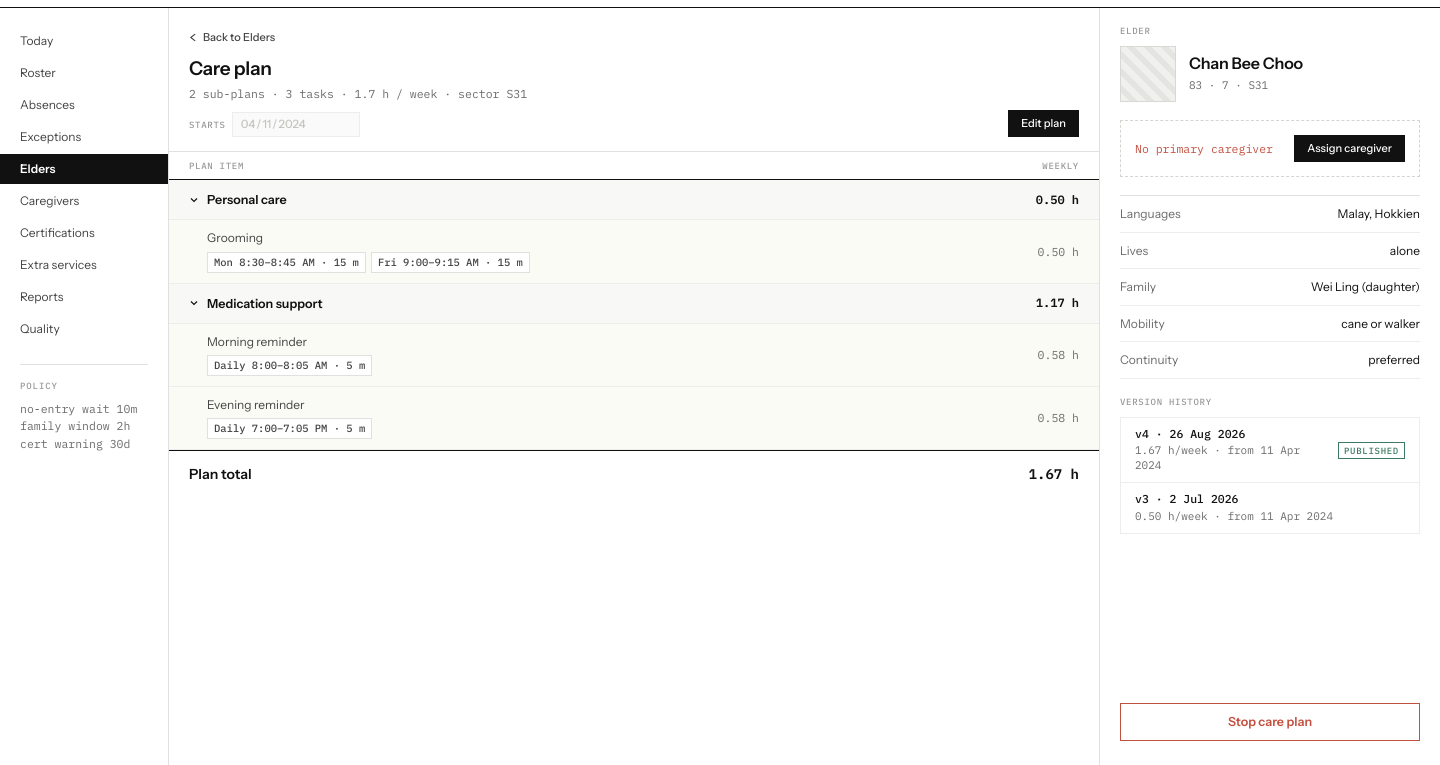
Test case: adds a sub-plan from the grouped activity picker and a per-day schedule
Click the button "Edit plan": x=1044, y=124 [1008,110,1079,137]
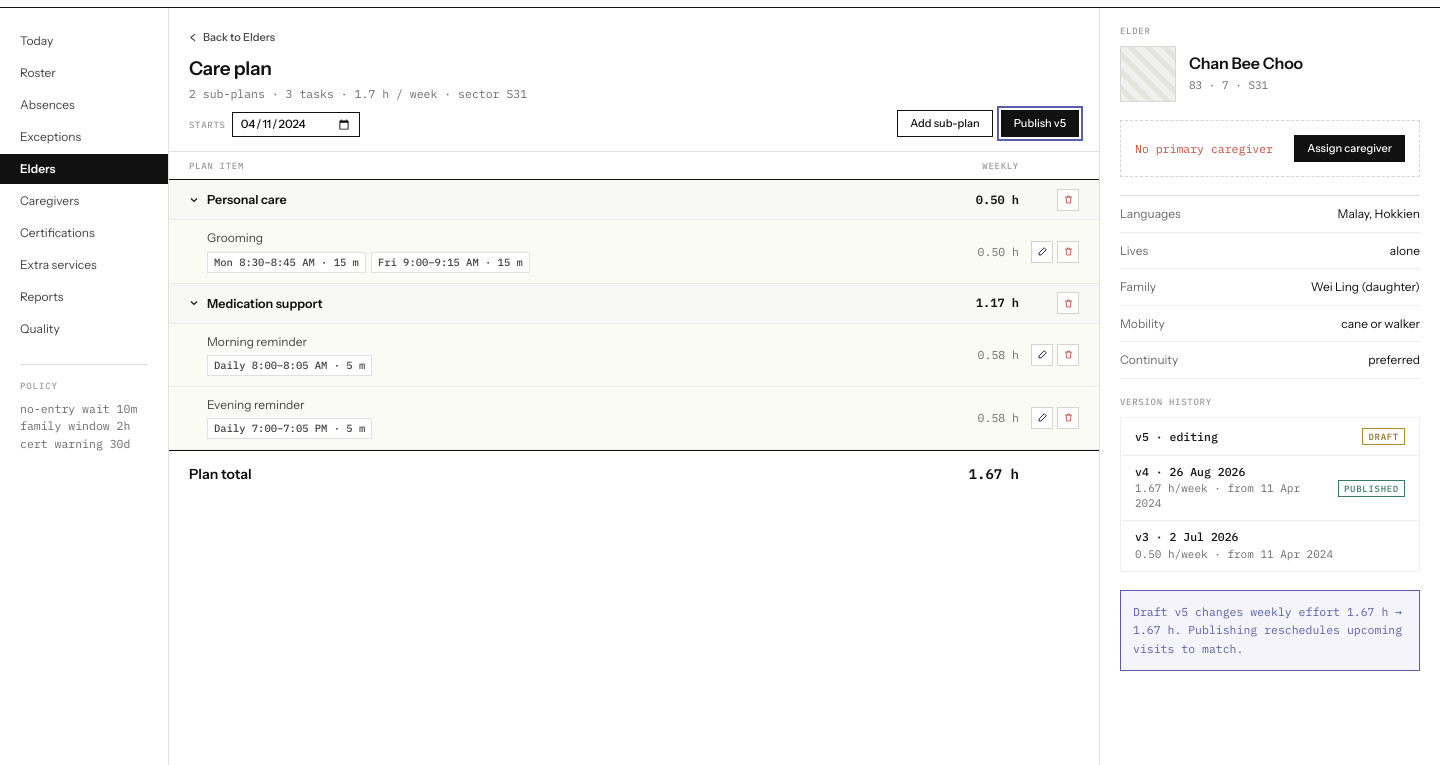
Click the button "Add sub-plan": x=945, y=124 [897,110,993,137]
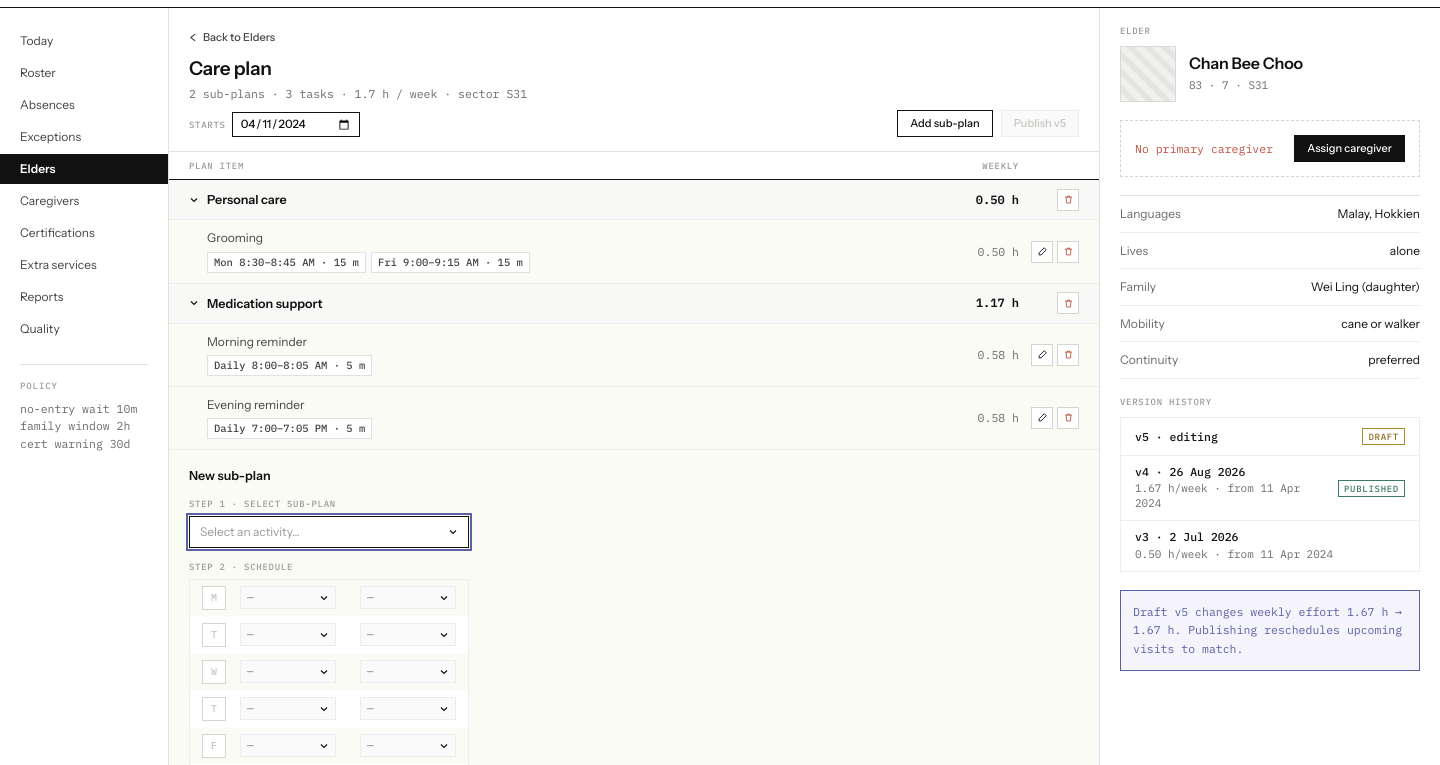
Select "Companionship walk" in the dropdown labelled "Step 1 · select sub-plan": x=262, y=503 [189,498,336,508]
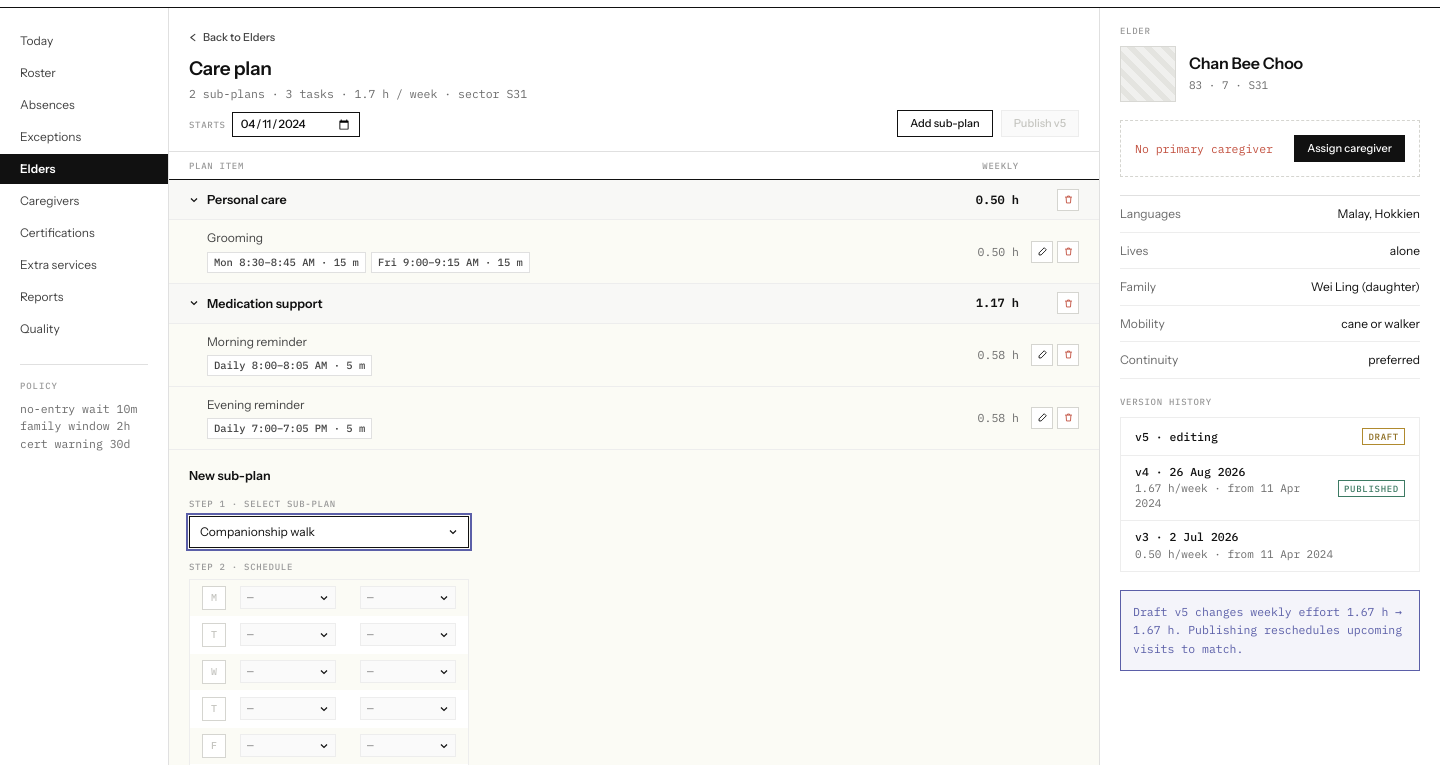
Click the button named "Tuesday": x=214, y=635 [202,623,226,647]
(page scrolled)
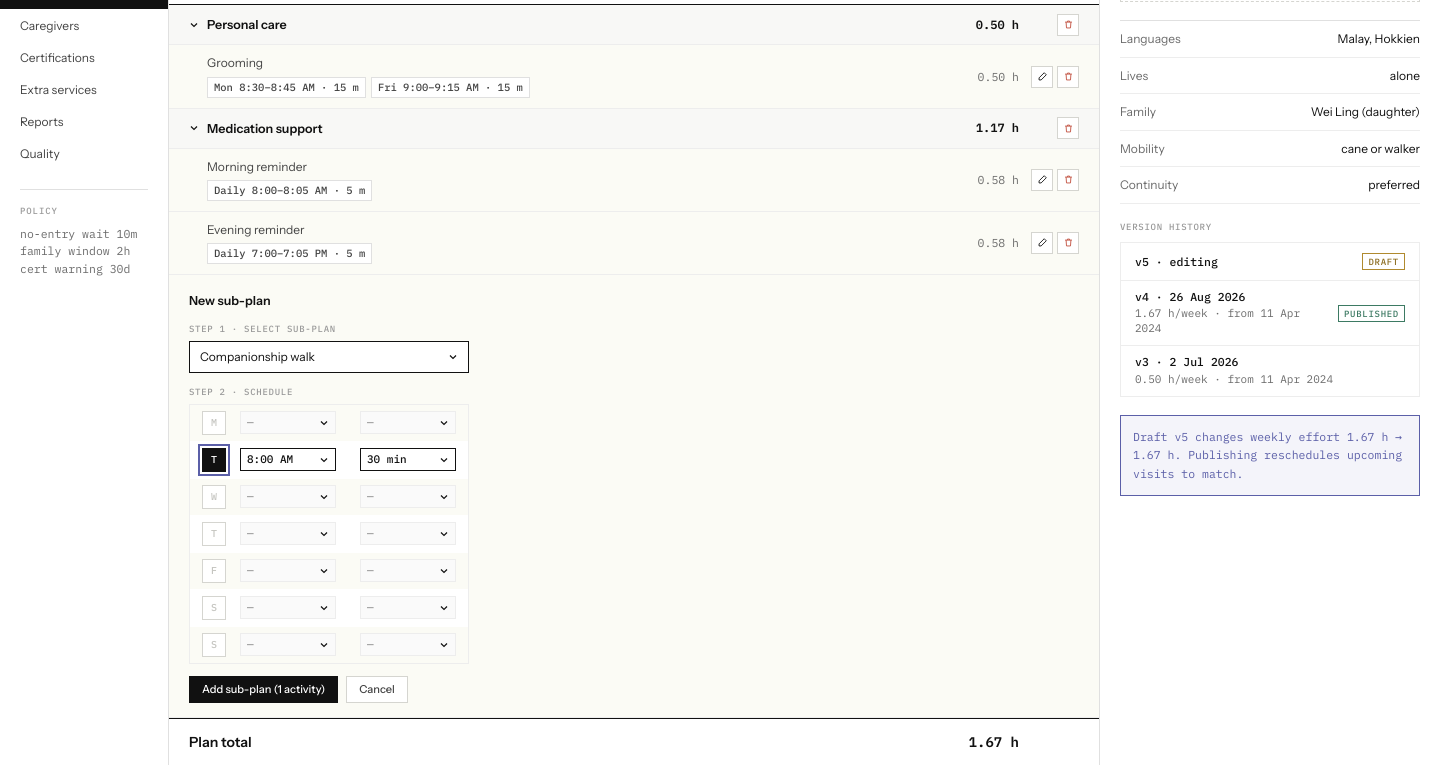
Click the button named "Saturday": x=214, y=608 [202,596,226,620]
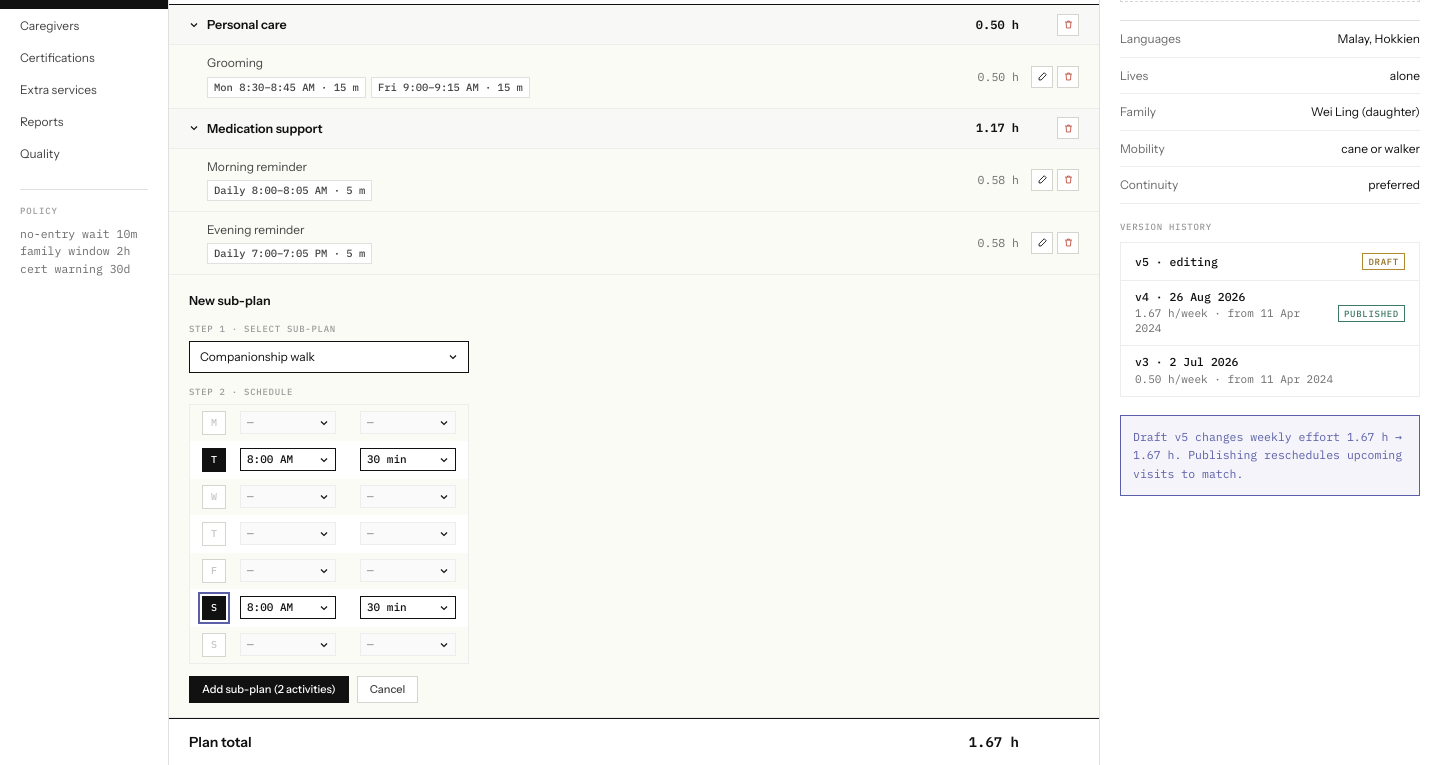
Expected: the button "Add sub-plan (2 activities)" is shown
Click the button "Add sub-plan (2 activities)": x=269, y=689 [189,676,349,703]
(page scrolled)
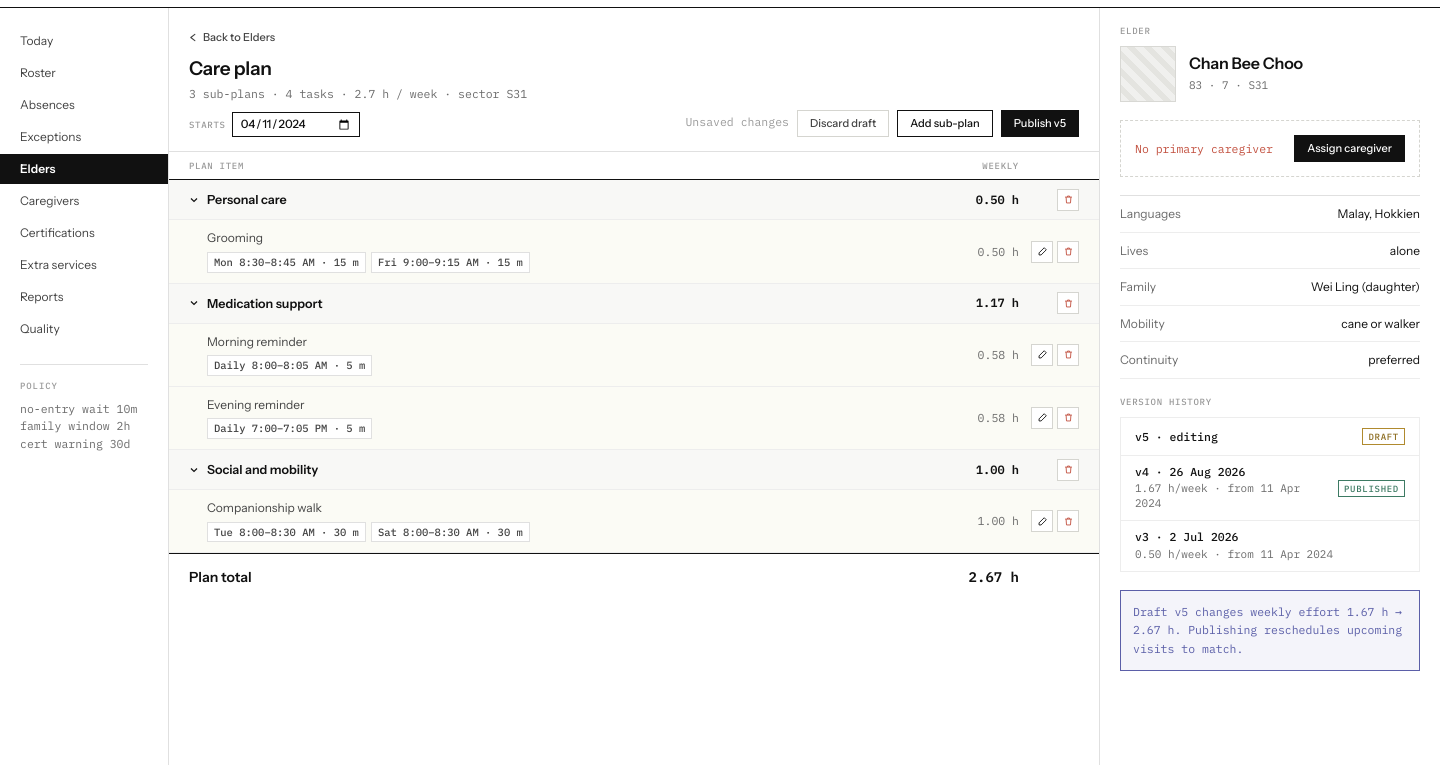
Expected: the button "Social and mobility" is shown, [189,450,923,489]
Expected: the text "Tue 8:00–8:30 AM · 30 m" is shown, [207,522,366,542]
Expected: the text "Sat 8:00–8:30 AM · 30 m" is shown, [371,522,530,542]
